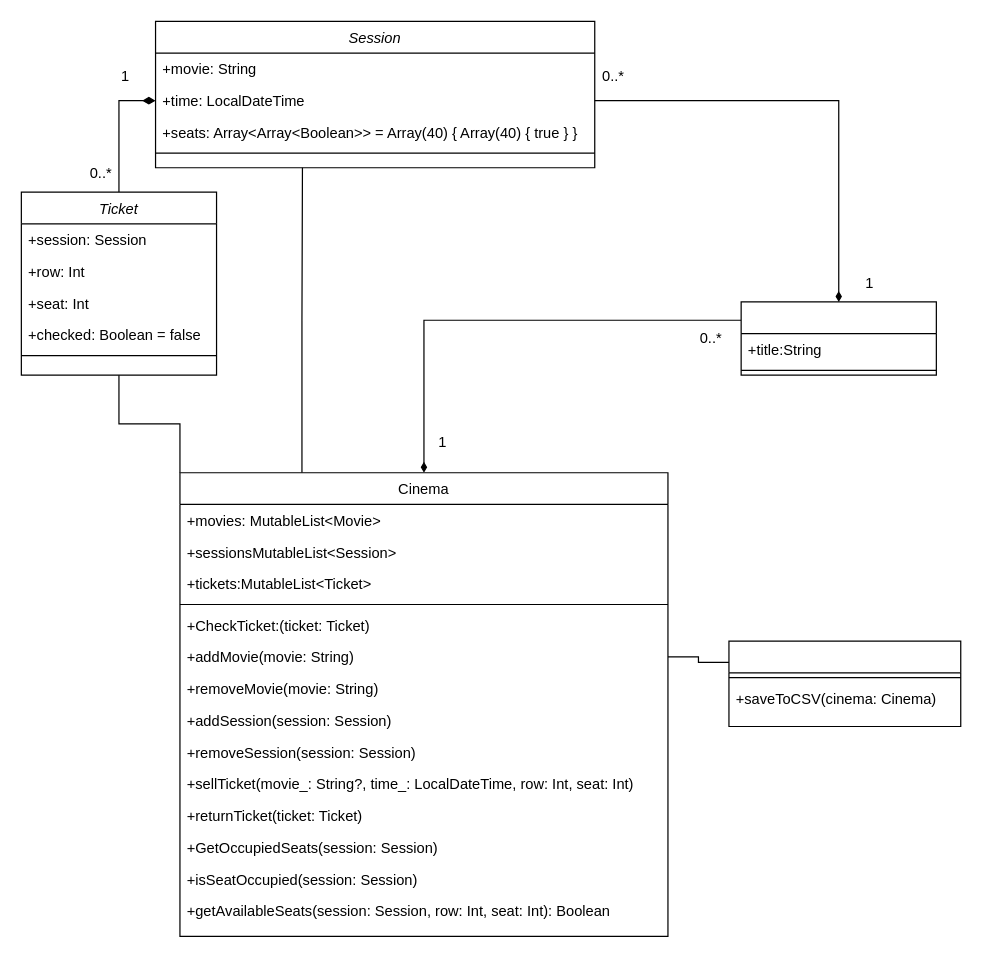
Image size: 982x958. Some labels were removed from this diagram. Each missing label, with the box of its shape:
Movie: (740, 301, 936, 375)
Saving: (728, 640, 961, 727)
